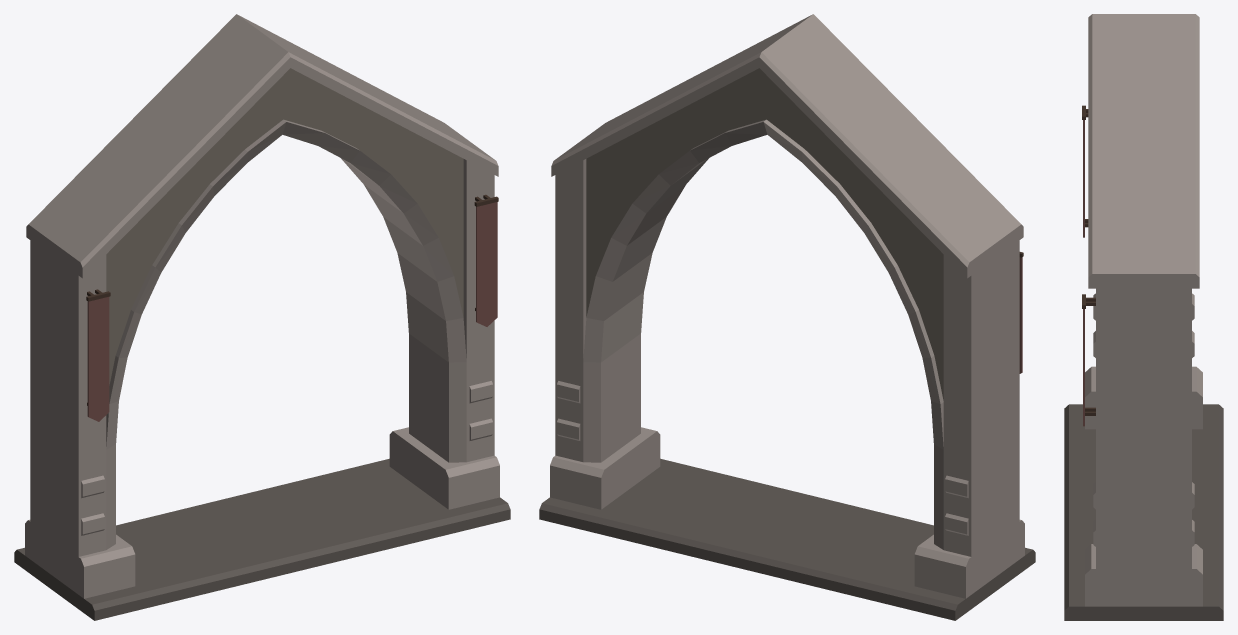
File: colonnade-run-d765e3.glb
3 renders of one model, left to right at view 1: azimuth 30°, elevation 25°; view 2: azimuth 150°, elevation 25°; view 3: azimuth 270°, elevation 25°, orthographic.
Bounding box in the file's own units: 3 × 3.5 × 1.
